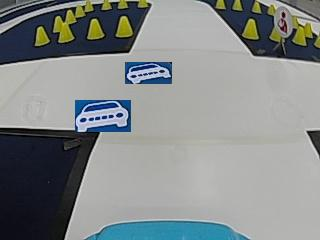cone: (86, 18, 105, 40), (242, 18, 259, 39), (116, 16, 133, 37), (58, 21, 74, 42), (34, 26, 50, 45), (293, 26, 306, 45), (252, 1, 262, 13), (232, 0, 243, 10), (100, 0, 111, 10), (75, 5, 85, 16), (266, 4, 276, 15), (84, 0, 94, 11), (215, 0, 226, 9), (117, 0, 128, 9), (136, 0, 148, 8)
patient: (276, 5, 291, 35)
